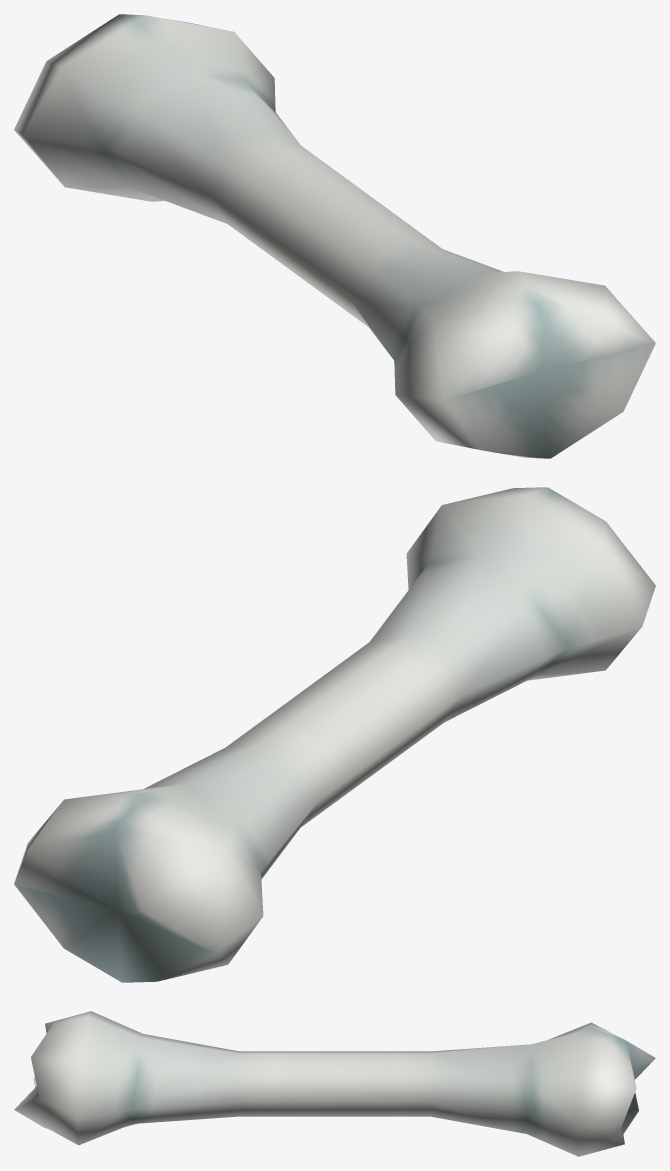
The model's file is Bone.glb.
3 renders of one model, top to bottom at view 1: azimuth 30°, elevation 25°; view 2: azimuth 150°, elevation 25°; view 3: azimuth 270°, elevation 25°, orthographic. The views are drawn at different scales.
Visible parts, largest first — view 1: SkillObj_Perform_Bone_LOD0; view 2: SkillObj_Perform_Bone_LOD0; view 3: SkillObj_Perform_Bone_LOD0.
Boxes of the visible parts, x1,y1,x2,y2 form: SkillObj_Perform_Bone_LOD0: [14, 14, 655, 458]; SkillObj_Perform_Bone_LOD0: [14, 487, 655, 982]; SkillObj_Perform_Bone_LOD0: [14, 1011, 655, 1156].
Bounding box in the file's own units: 0.0454 × 0.0357 × 0.1547.
Materials: 1 (1 with a texture image).
